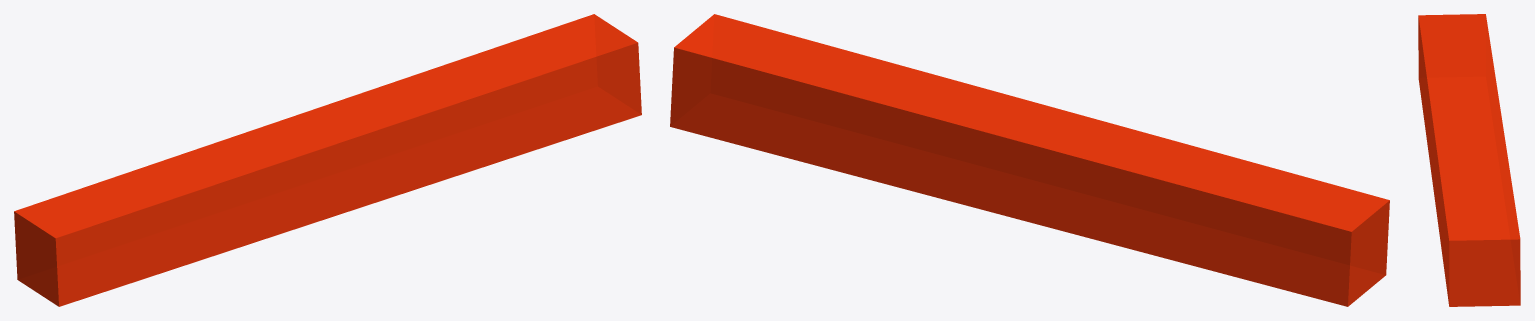
File: Event_421364160_EErechit_48.fbx
3 views of the same model, side by side, from view 1: azimuth 30°, elevation 25°; view 2: azimuth 150°, elevation 25°; view 3: azimuth 270°, elevation 25° (orthographic). The views are drawn at different scales.
Parts seen in each view (by area): view 1: Model; view 2: Model; view 3: Model.
Part boxes in pixels (x1,y1,x2,y2): Model: [14, 14, 641, 306]; Model: [670, 14, 1389, 306]; Model: [1418, 14, 1520, 306].
Bounding box in the file's own units: 0.663 × 0.1108 × 0.1097.
